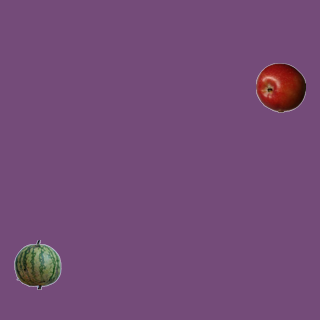Apple Braeburn: (255, 62, 305, 112)
Watermelon: (12, 239, 62, 289)
